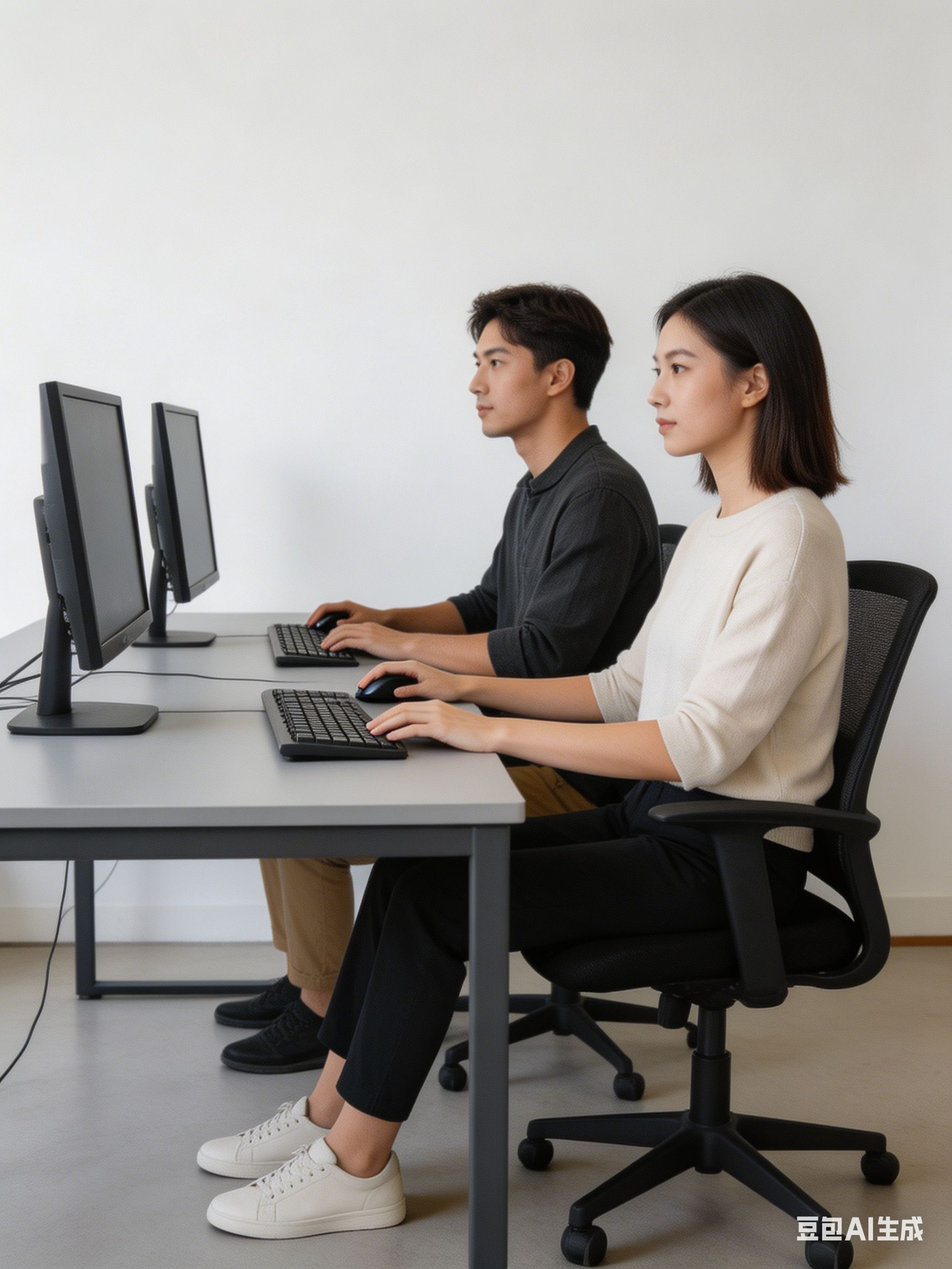sitting_good: (633, 277, 829, 1205), (336, 279, 668, 748)
